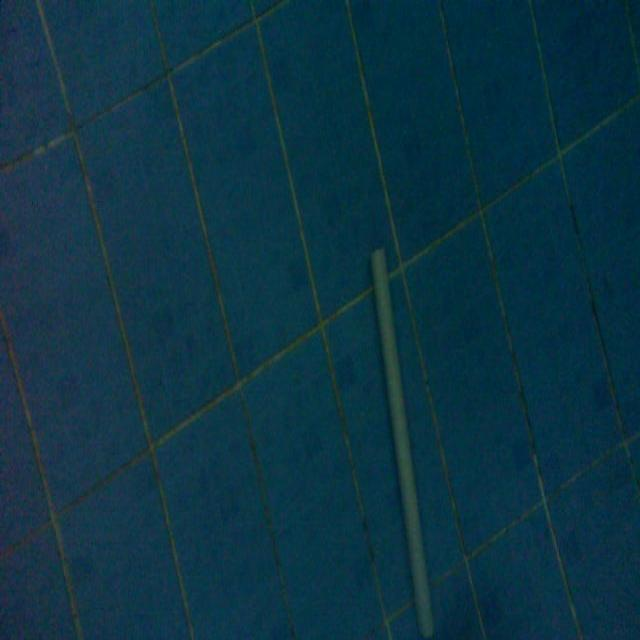Cube: (367, 242, 436, 634)
